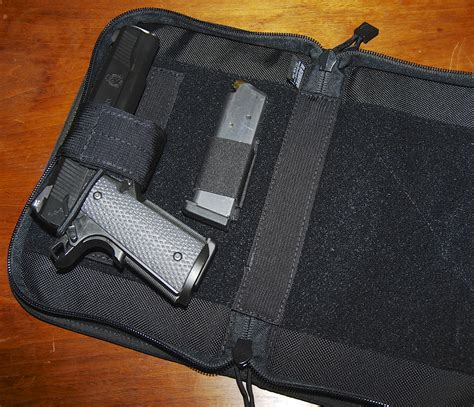gun: (29, 18, 219, 309)
